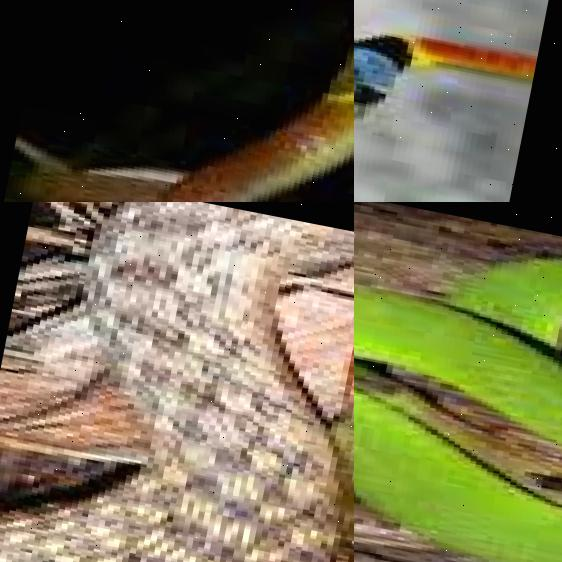snake: (0, 202, 354, 562), (354, 202, 562, 562), (0, 0, 354, 202), (354, 0, 562, 172)
